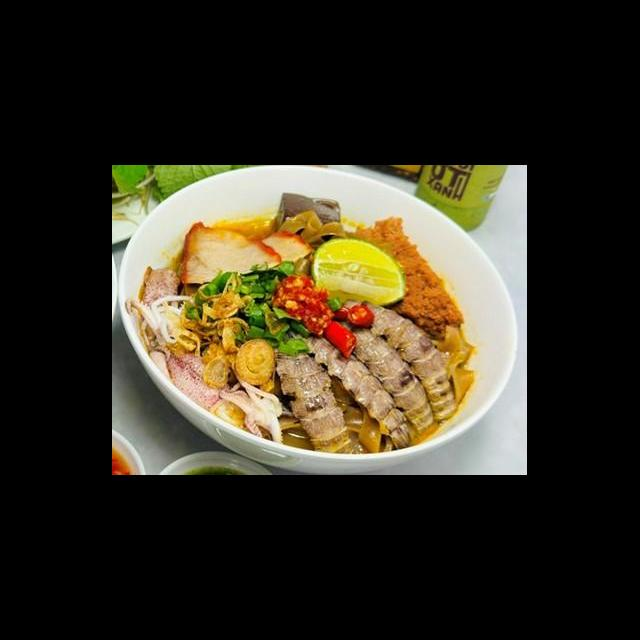muc: (146, 341, 238, 418), (206, 372, 288, 451), (120, 291, 203, 363), (136, 260, 186, 353)
thit heo: (177, 219, 286, 286), (242, 229, 316, 270)
tom tit: (284, 321, 418, 453), (338, 295, 462, 427), (266, 328, 366, 460), (332, 317, 438, 437)
